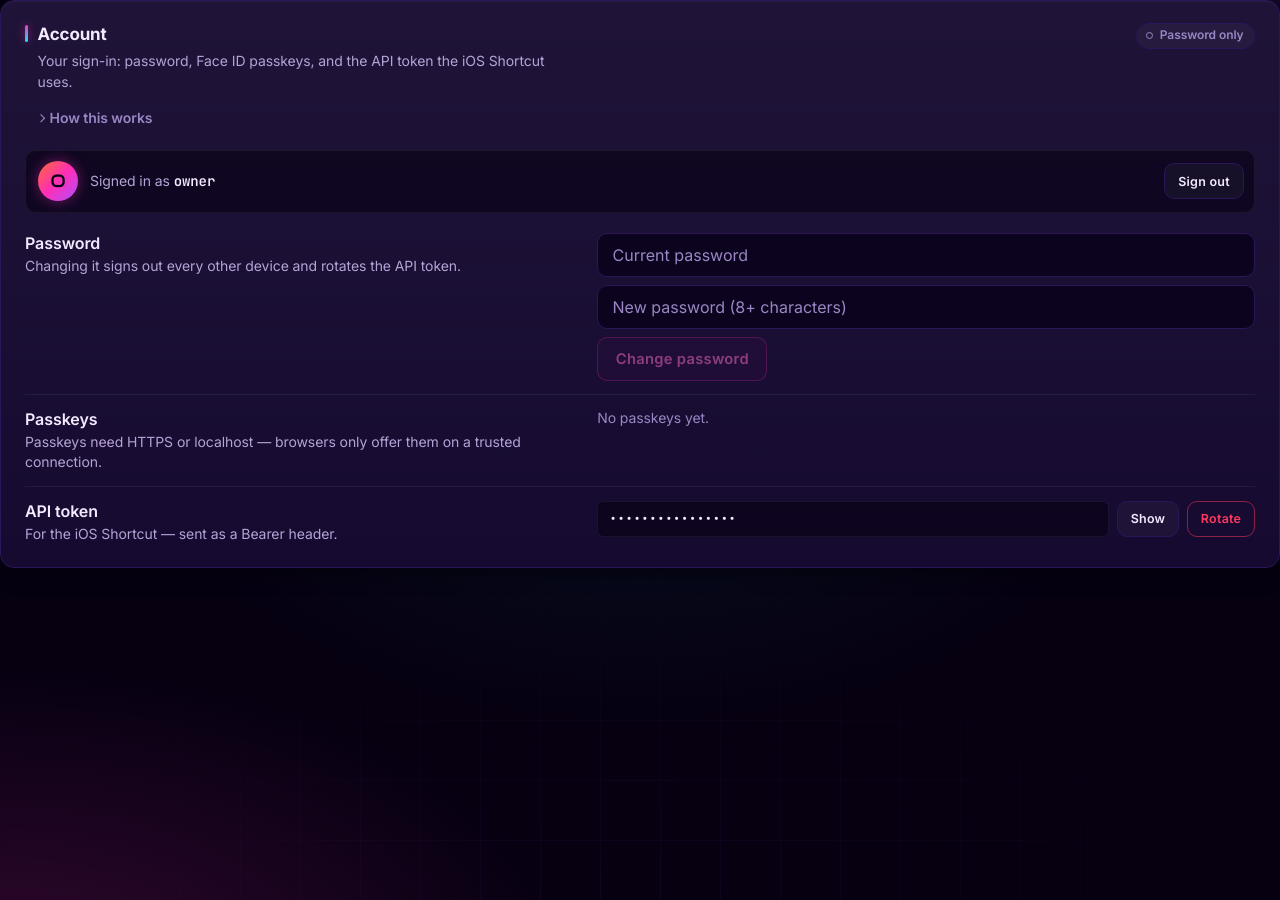
Test case: AccountCard — the API token is a credential, not a profile field › asks for the password before rotating too
Click the button "Rotate": [1221, 519] box x1=1187 y1=501 x2=1255 y2=537
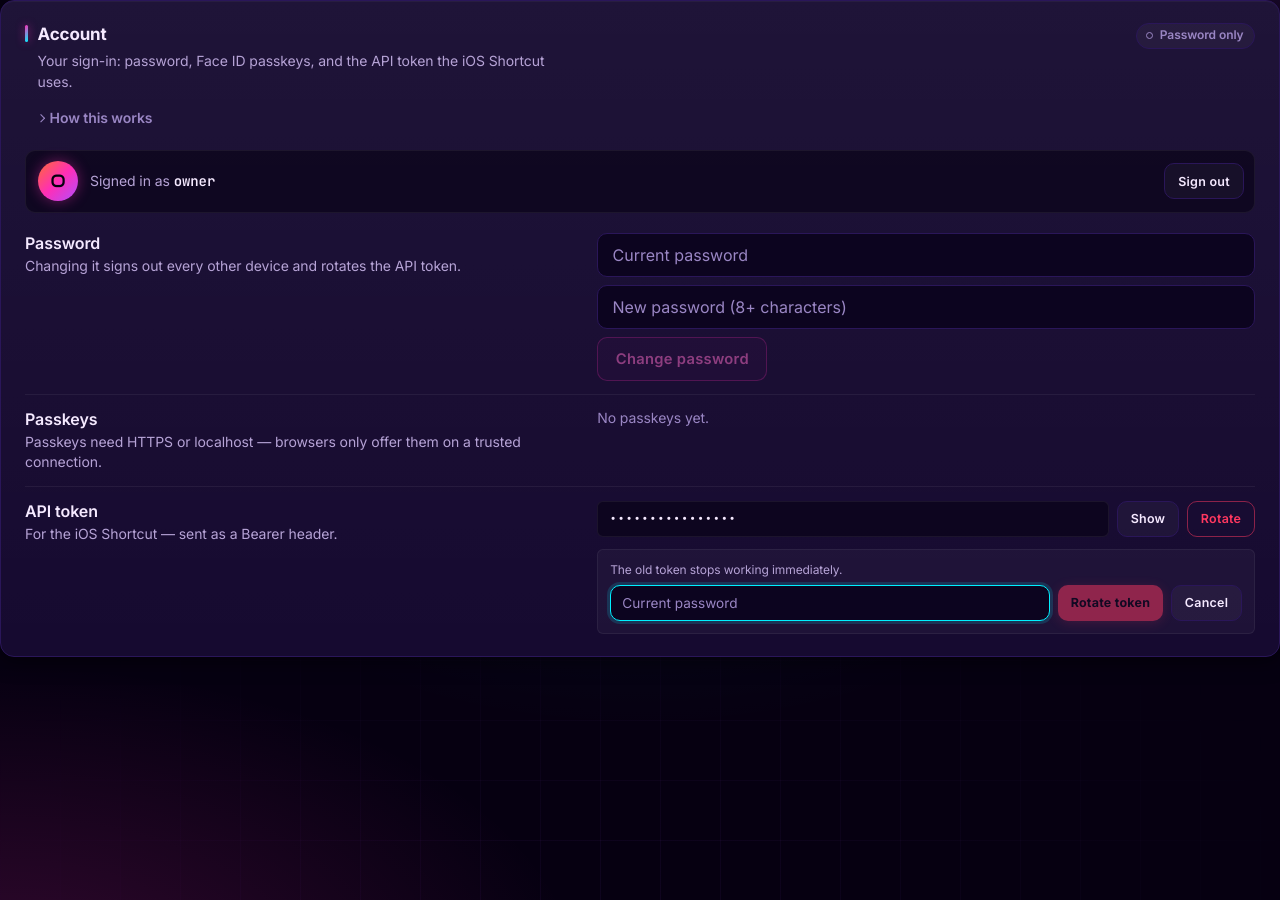
In the password field named "Current password to rotate the API token": [830, 603] box x1=610 y1=585 x2=1050 y2=621, type "a-strong-password"
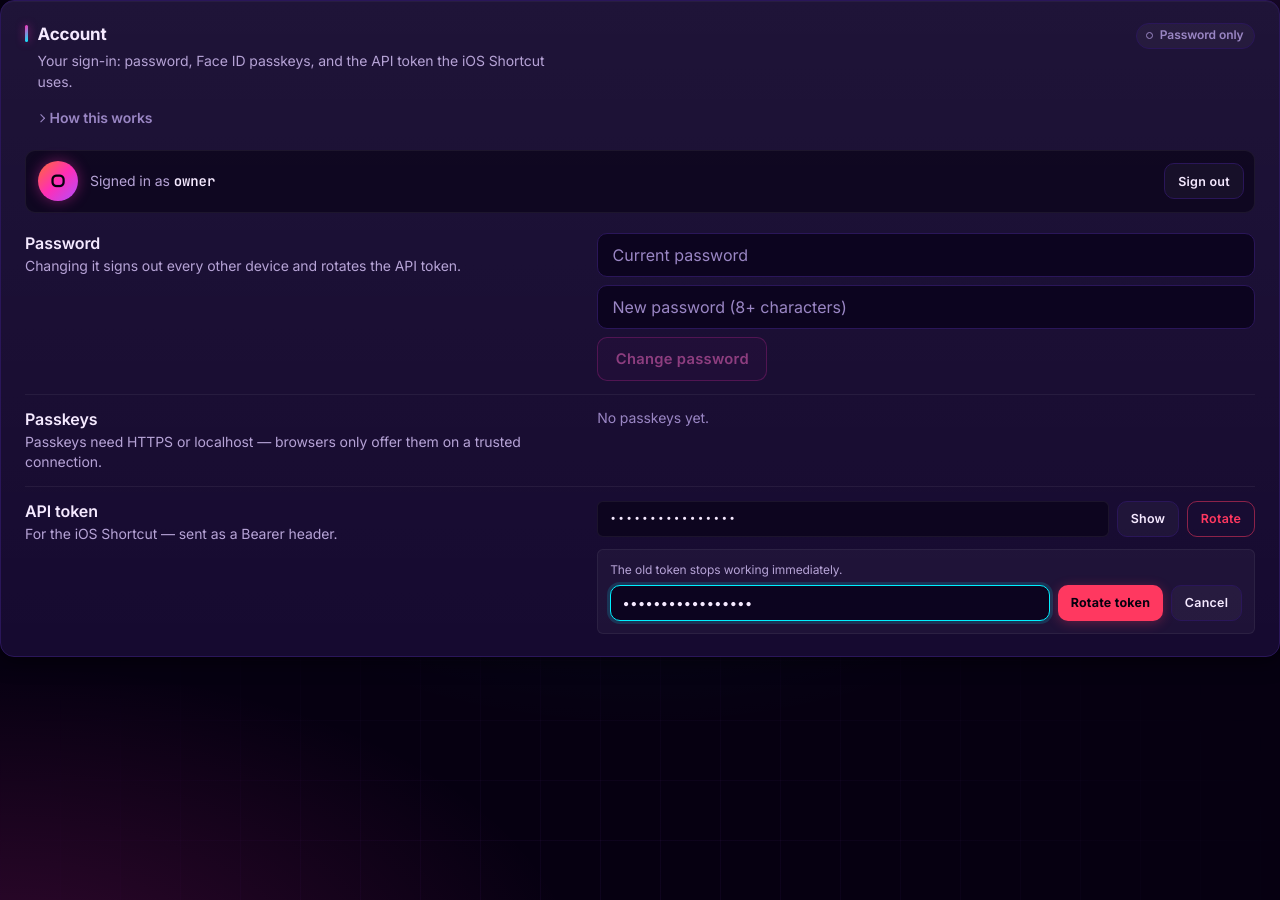
Click the button "Rotate token": [1110, 603] box x1=1058 y1=585 x2=1163 y2=621
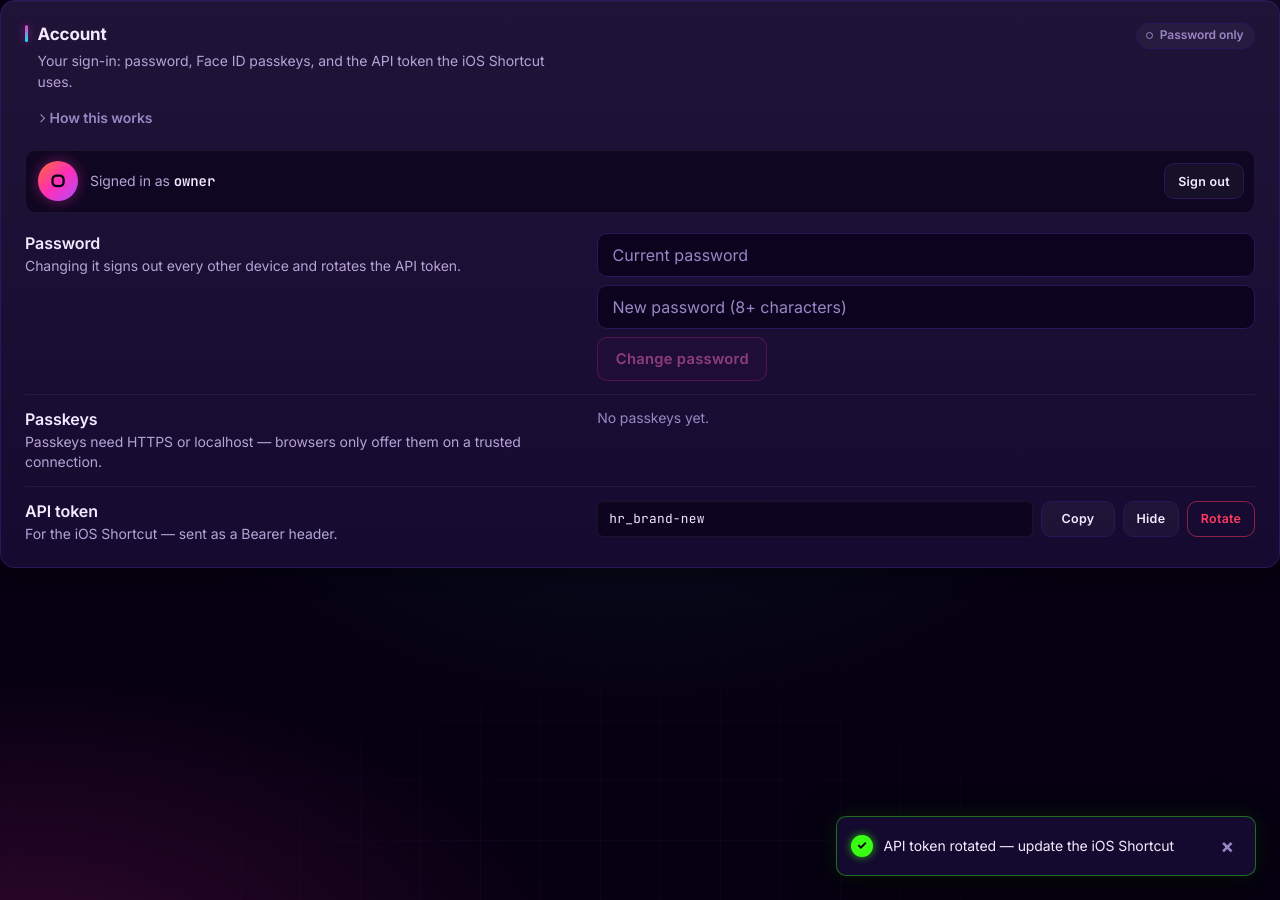
Expected: the text "hr_brand-new" is shown, x1=597 y1=501 x2=1033 y2=537
Expected: the text "API token rotated — update the iOS Shortcut" is shown, x1=883 y1=836 x2=1199 y2=856
